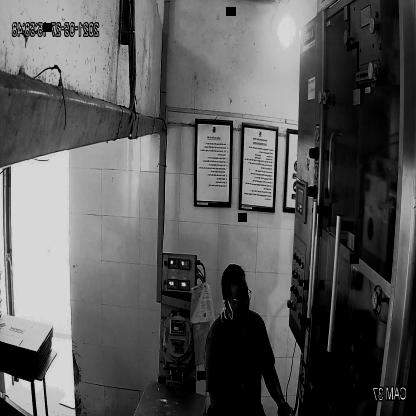goggles: (220, 282, 254, 312)
